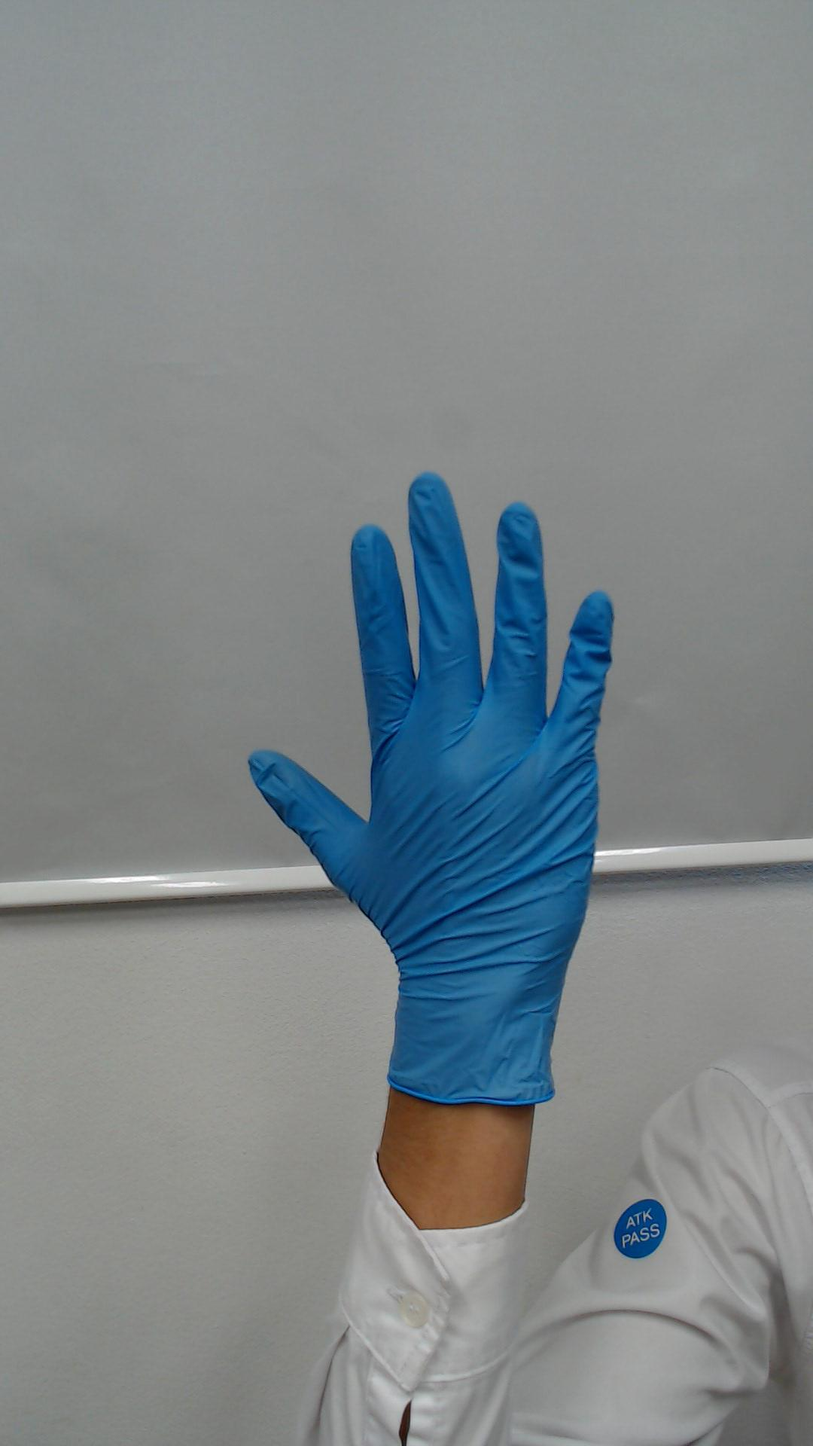gloves: (239, 460, 661, 939)
